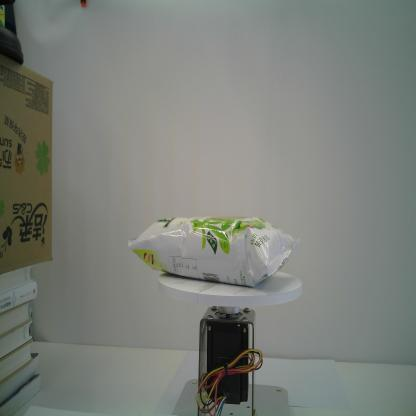Puffed Food: (127, 214, 299, 288)
